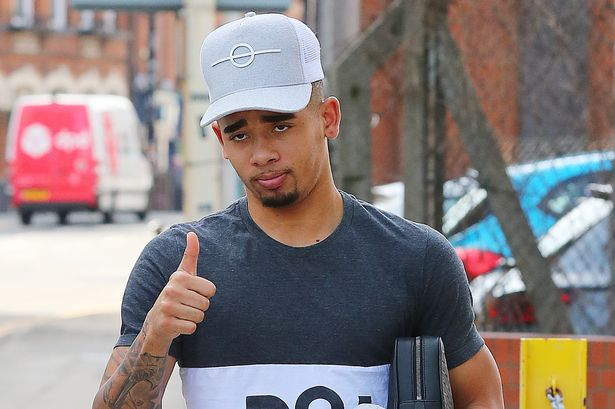thumbsUp: (143, 224, 220, 341)
